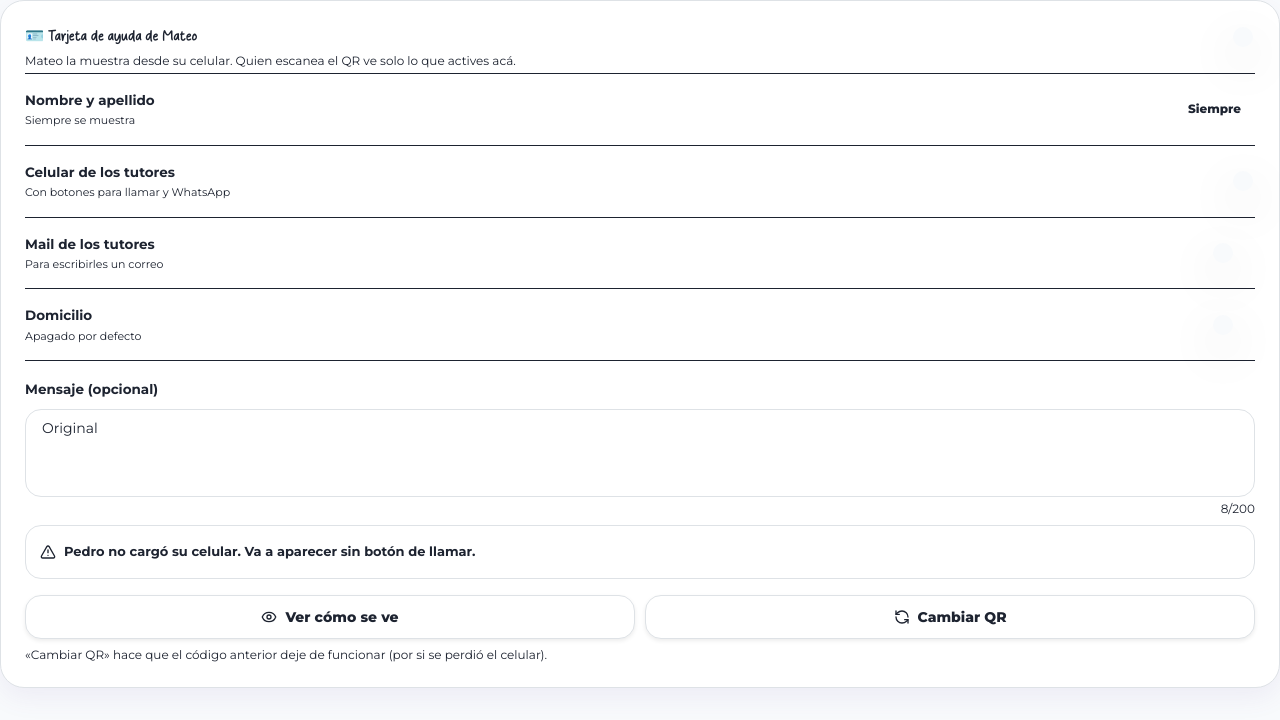
Test: HelpCardSettingsCard › si falla guardar el mensaje, el texto vuelve al anterior
expect the heading "🪪 Tarjeta de ayuda de Mateo" is shown: met, box x1=25 y1=27 x2=197 y2=47
Replace the text in the text box labelled "Mensaje (opcional)" with "Nuevo": {"x": 640, "y": 453} x1=25 y1=409 x2=1255 y2=497
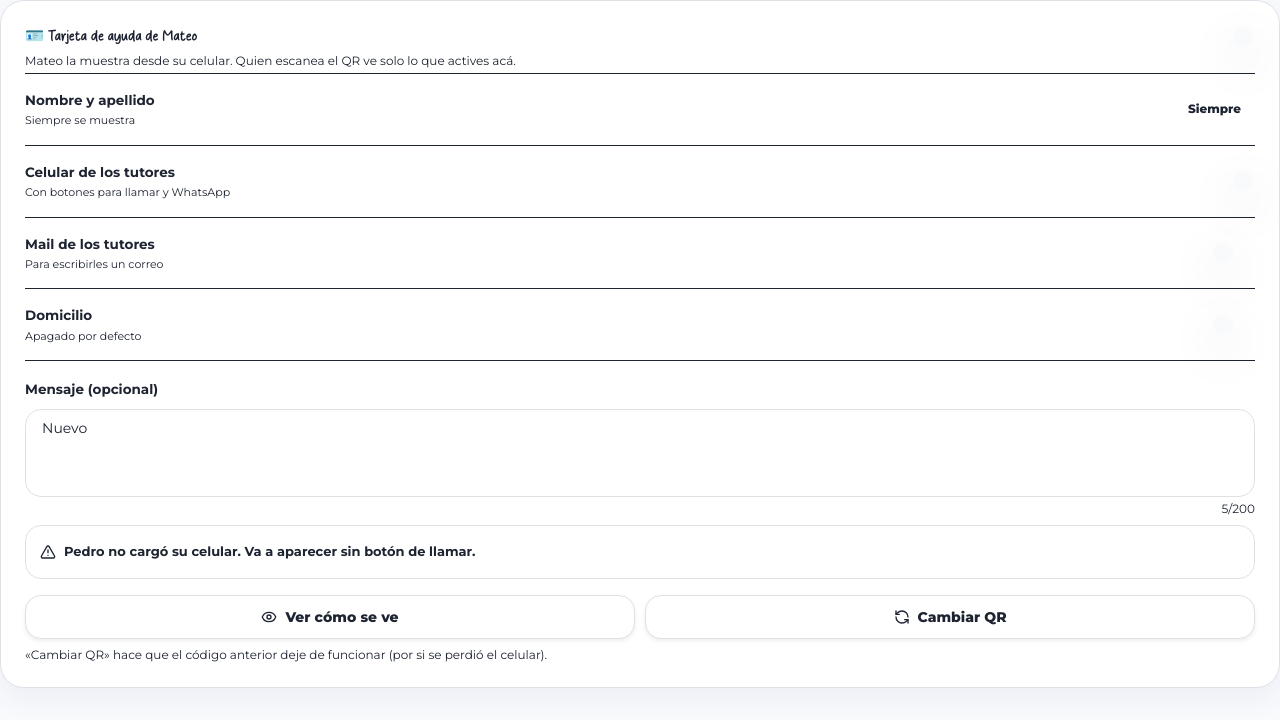
Leave the text box labelled "Mensaje (opcional)", box x1=25 y1=409 x2=1255 y2=497
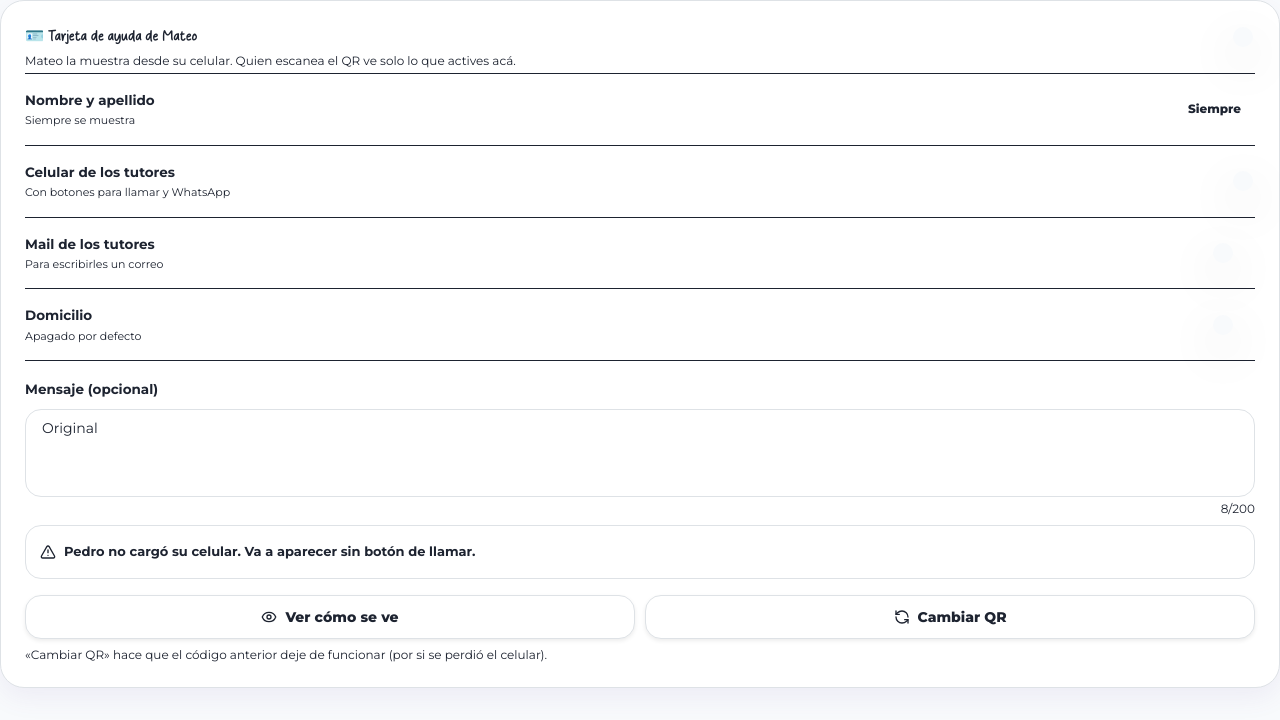
expect the text box labelled "Mensaje (opcional)" holds "Original": met, box x1=25 y1=409 x2=1255 y2=497
